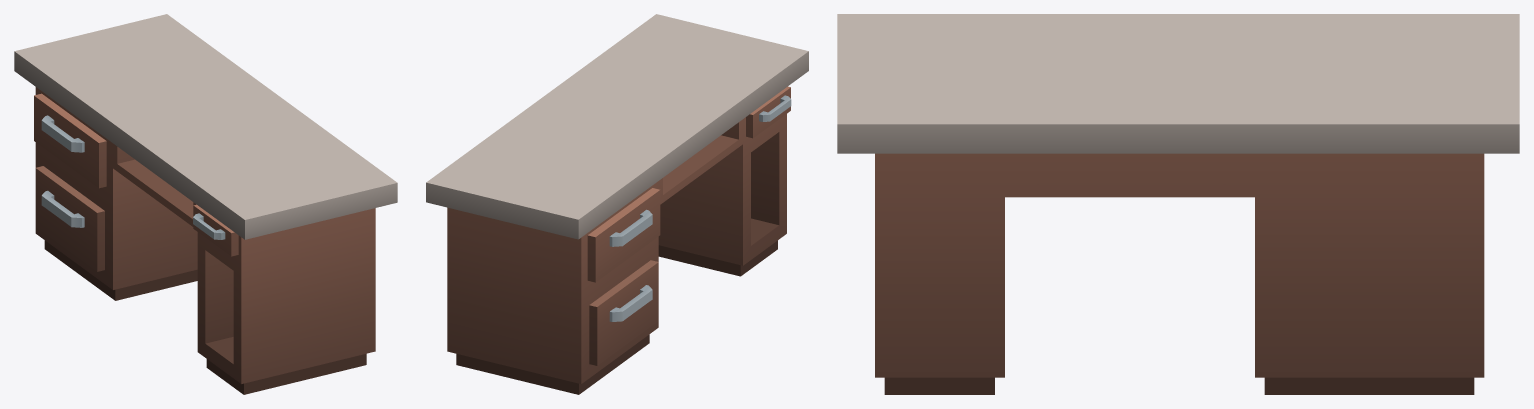
Rendered from SchoolPack2023DeskBig1.fbx.
The picture shows the model from 3 angles, left to right: view 1: azimuth 30°, elevation 25°; view 2: azimuth 150°, elevation 25°; view 3: azimuth 270°, elevation 25°; orthographic projection. The views are drawn at different scales.
Visible parts, largest first — view 1: Cube.041; view 2: Cube.041; view 3: Cube.041.
Part boxes in pixels (left/top/right/bottom): Cube.041: left=14, top=14, right=397, bottom=394; Cube.041: left=426, top=14, right=808, bottom=394; Cube.041: left=837, top=14, right=1519, bottom=394.
Size of the model in its own units: 115 by 130 by 286.
